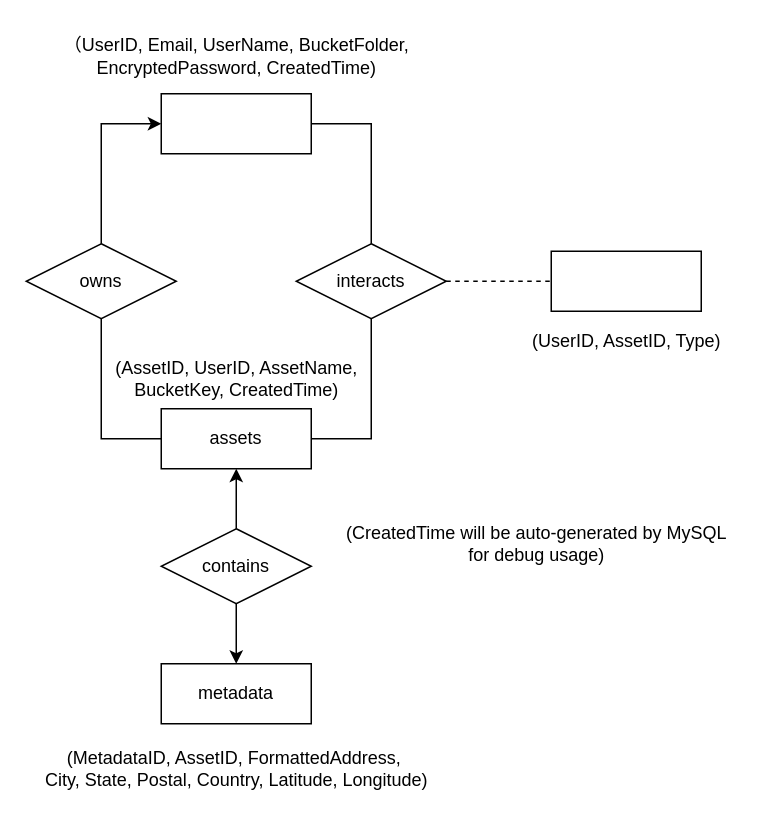
Image size: 773x824. Some labels were removed from this diagram. The centre of each missing label's shape, as x and y in pixels:
interactions: the point at 625,280
users: the point at 235,123
